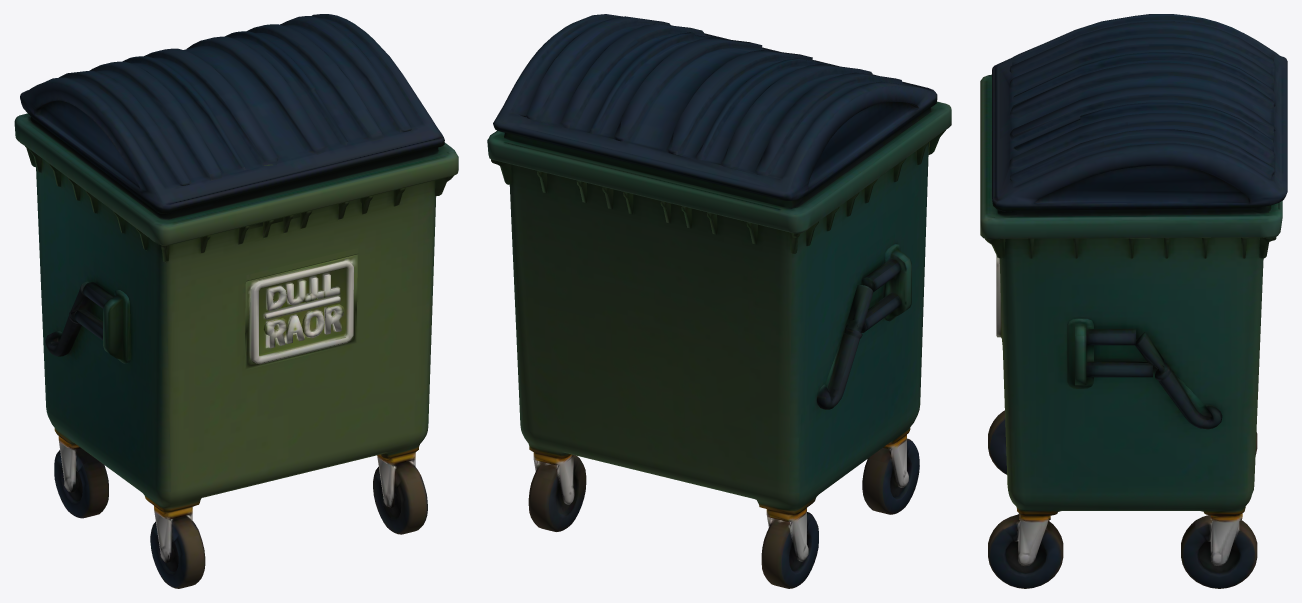
The model's file is dumpster_b076662a_v2.glb.
3 renders of one model, left to right at view 1: azimuth 30°, elevation 25°; view 2: azimuth 150°, elevation 25°; view 3: azimuth 270°, elevation 25°, orthographic. The views are drawn at different scales.
Visible parts, largest first — view 1: material; view 2: material; view 3: material.
Boxes of the visible parts, bbox=[...] form: material: bbox=[14, 14, 458, 588]; material: bbox=[487, 14, 951, 588]; material: bbox=[980, 14, 1287, 588].
Size of the model in its own units: 1.38 by 1.9 by 1.17.
Materials: 1 (1 with a texture image).
